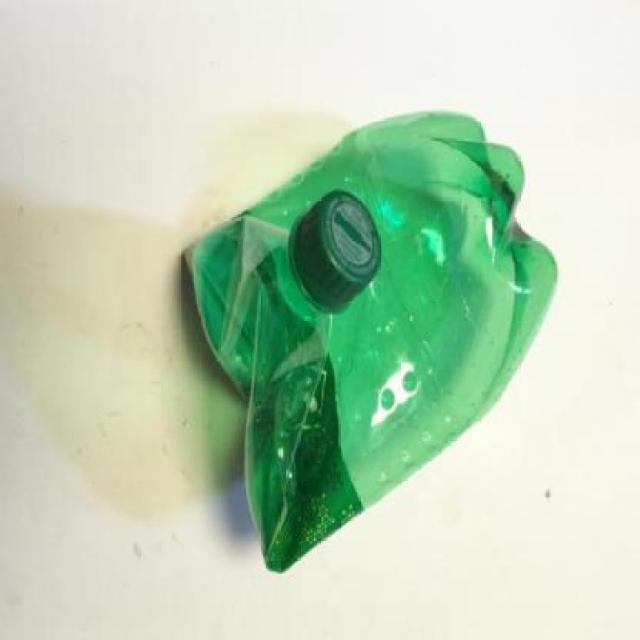PLASTIC: (185, 115, 560, 573), (188, 203, 366, 575), (291, 196, 383, 316)
